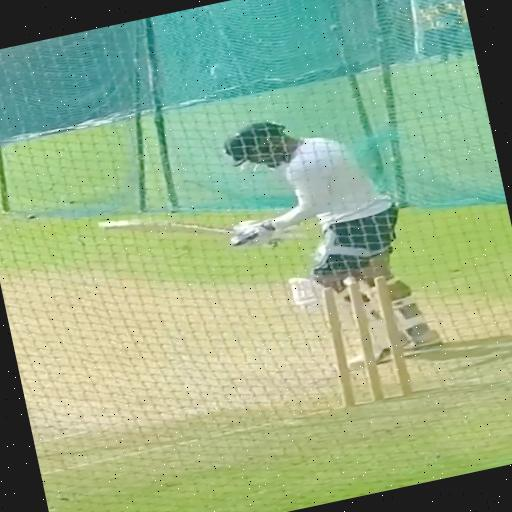Cricket bat: (98, 219, 234, 236), (276, 231, 297, 240)
